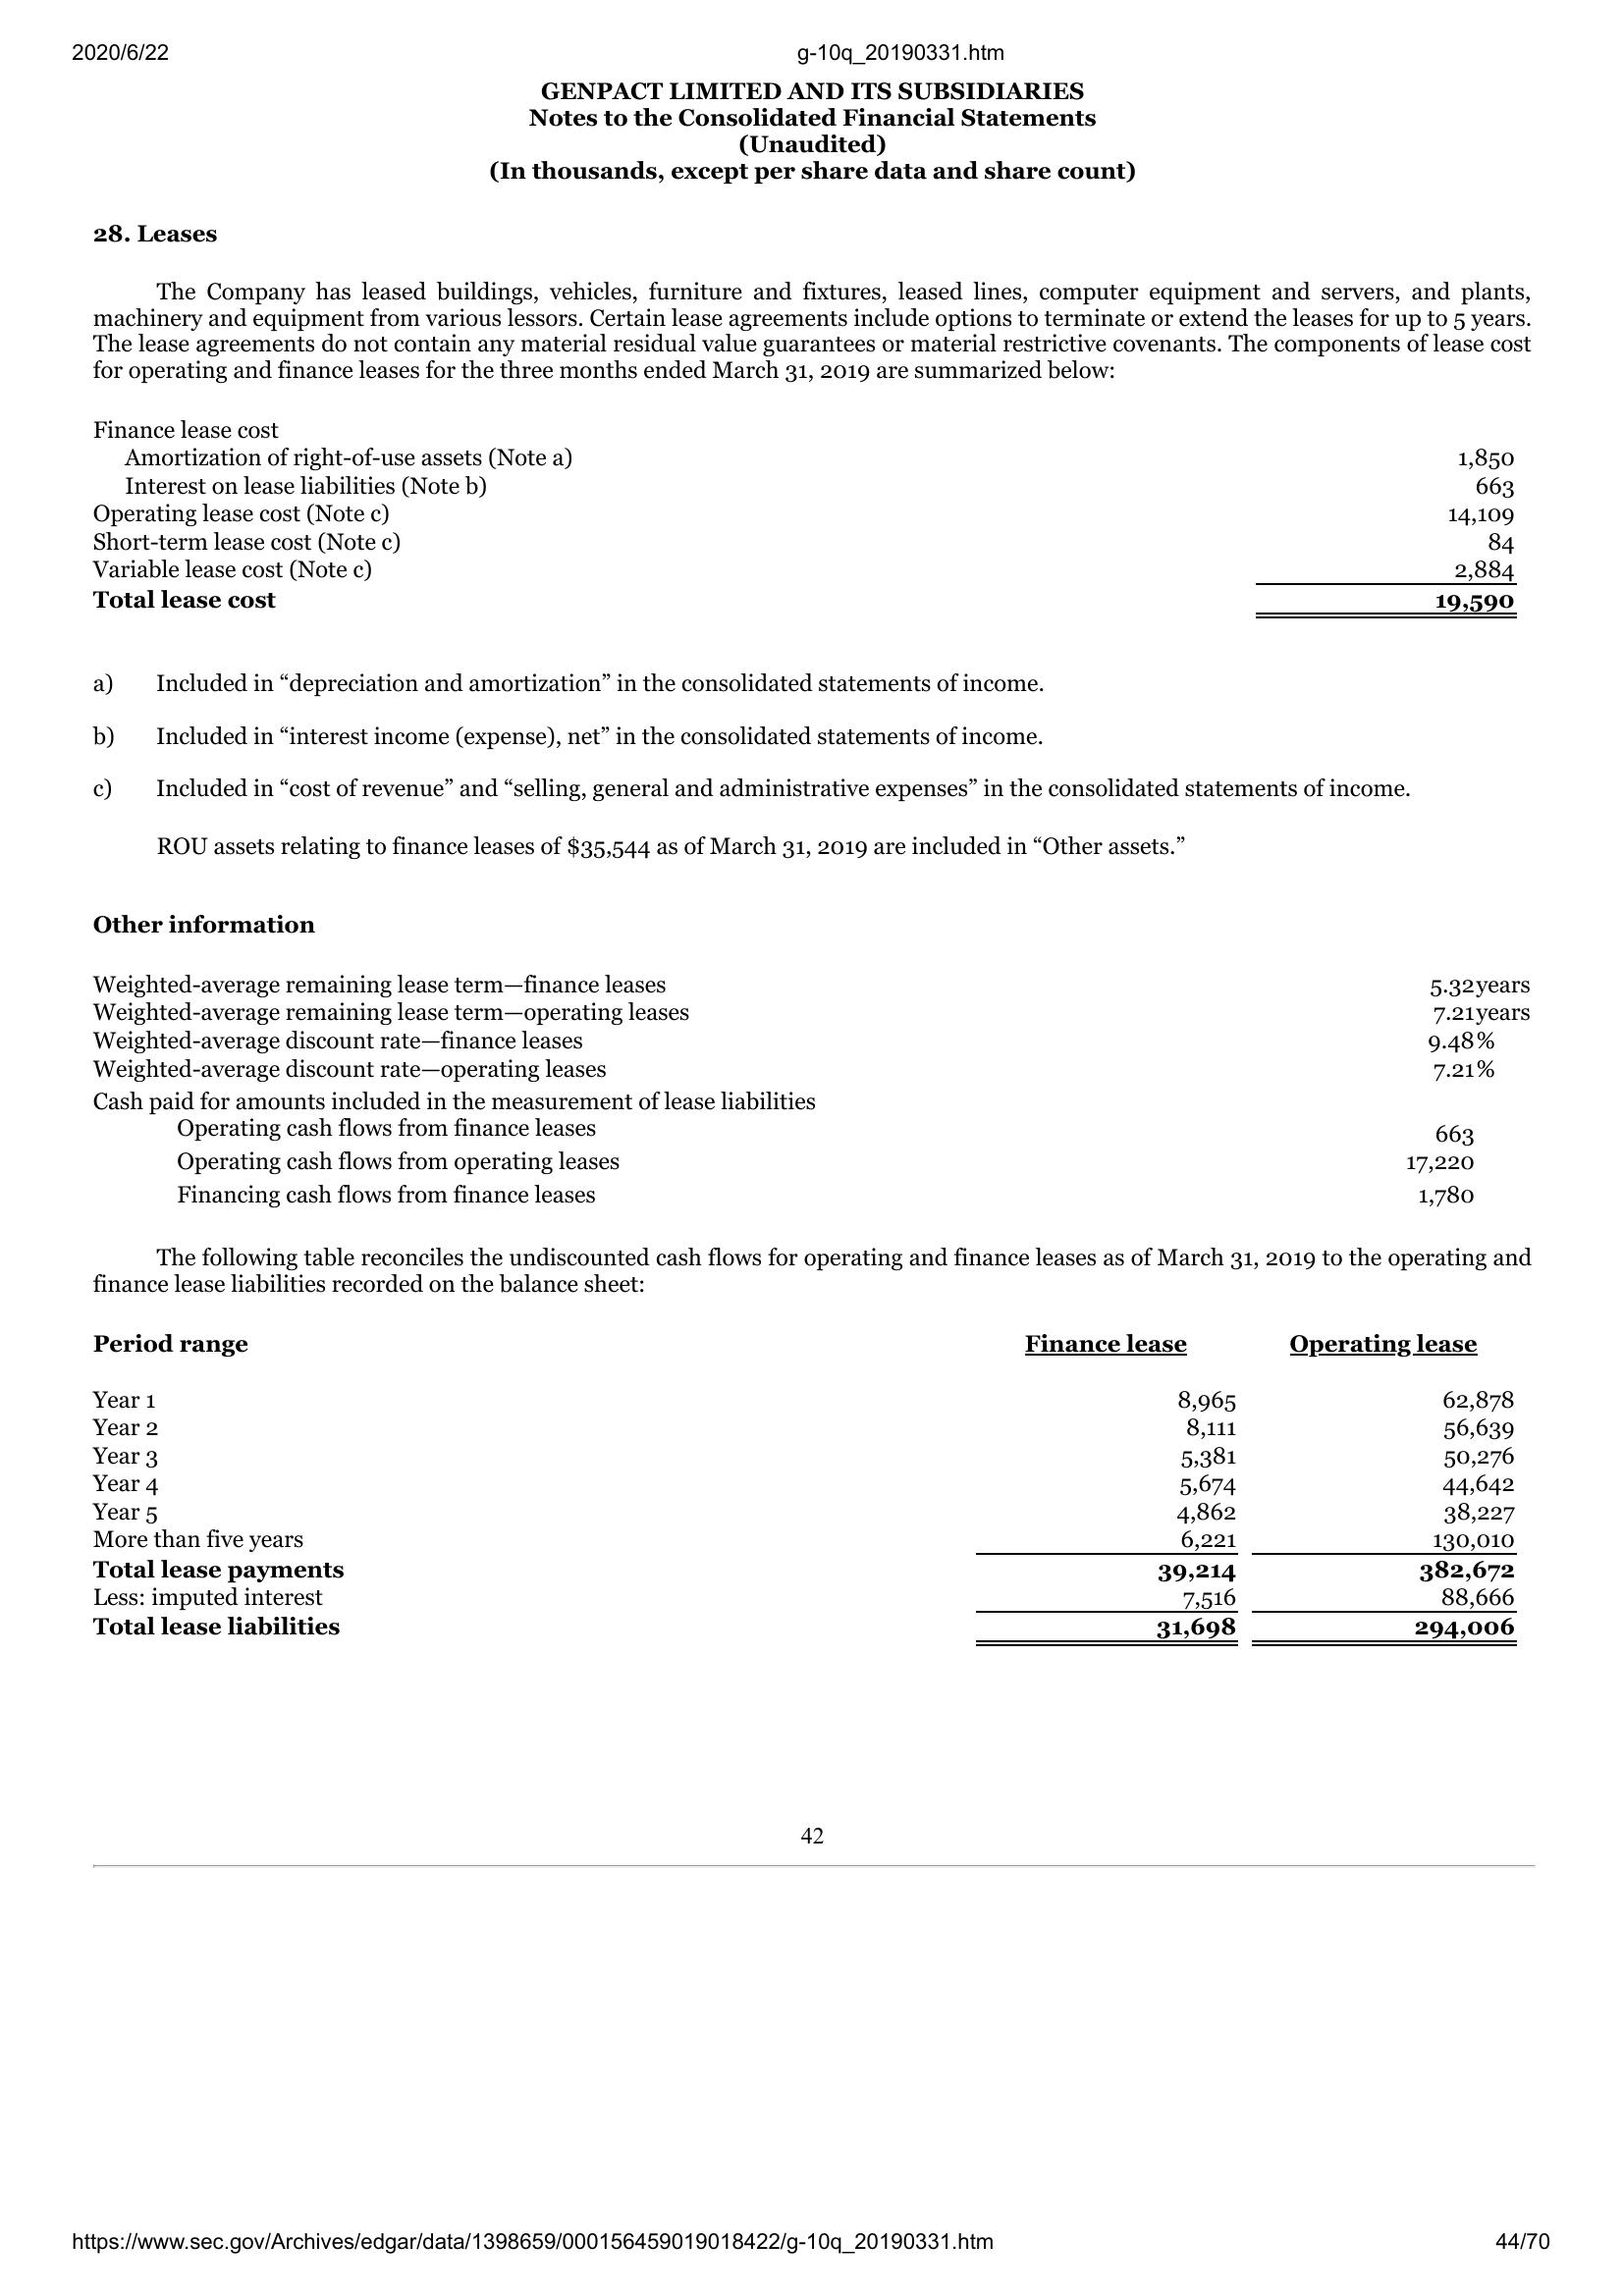table: (84, 1317, 1525, 1654), (84, 402, 1528, 625)
